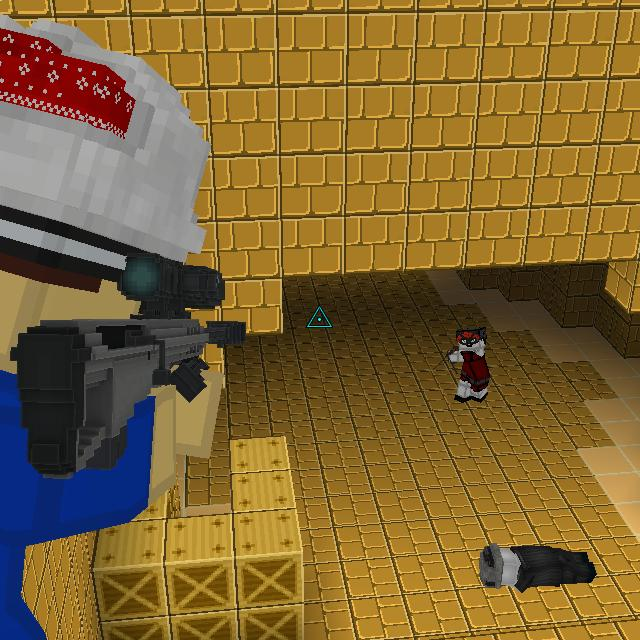enemy: (447, 324, 491, 404)
